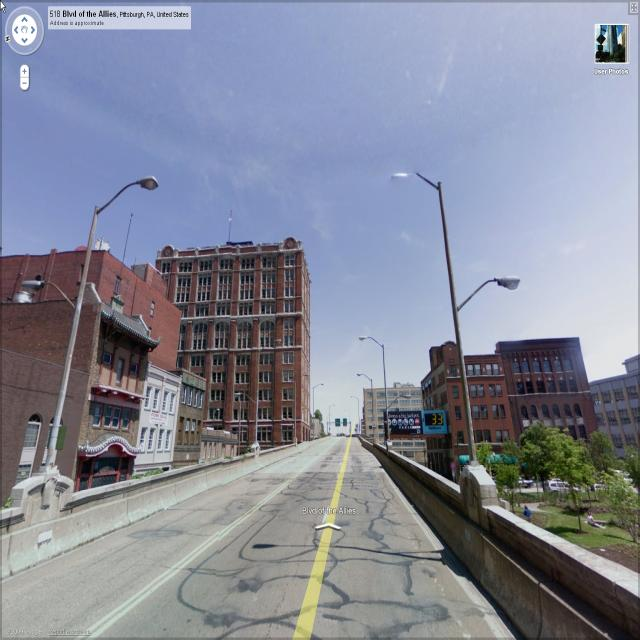b_1: (164, 232, 314, 440), (1, 312, 147, 488), (427, 344, 515, 466), (508, 332, 598, 439), (133, 367, 181, 477), (358, 383, 430, 446), (594, 350, 640, 448), (171, 375, 207, 481)
